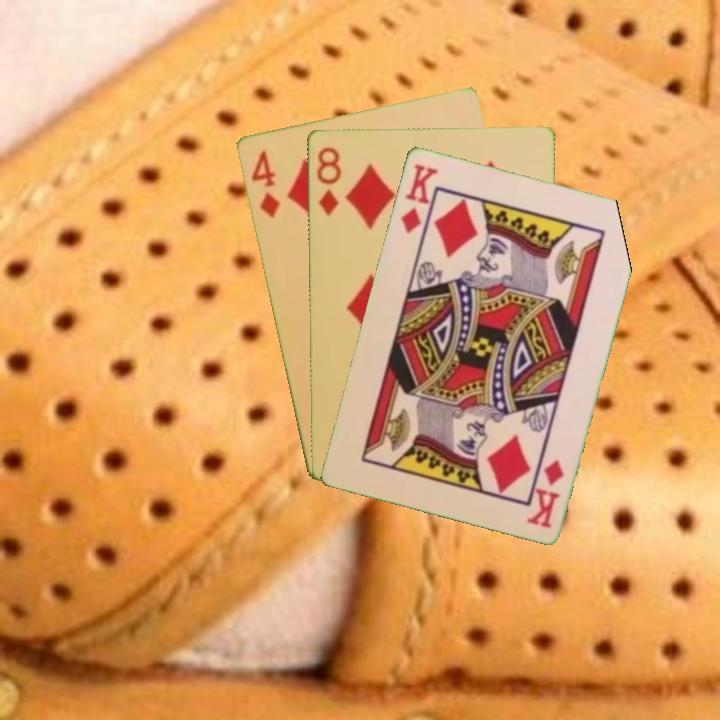4d: (247, 147, 283, 221)
8d: (313, 143, 344, 219)
Kd: (397, 160, 441, 244), (524, 455, 567, 531)
